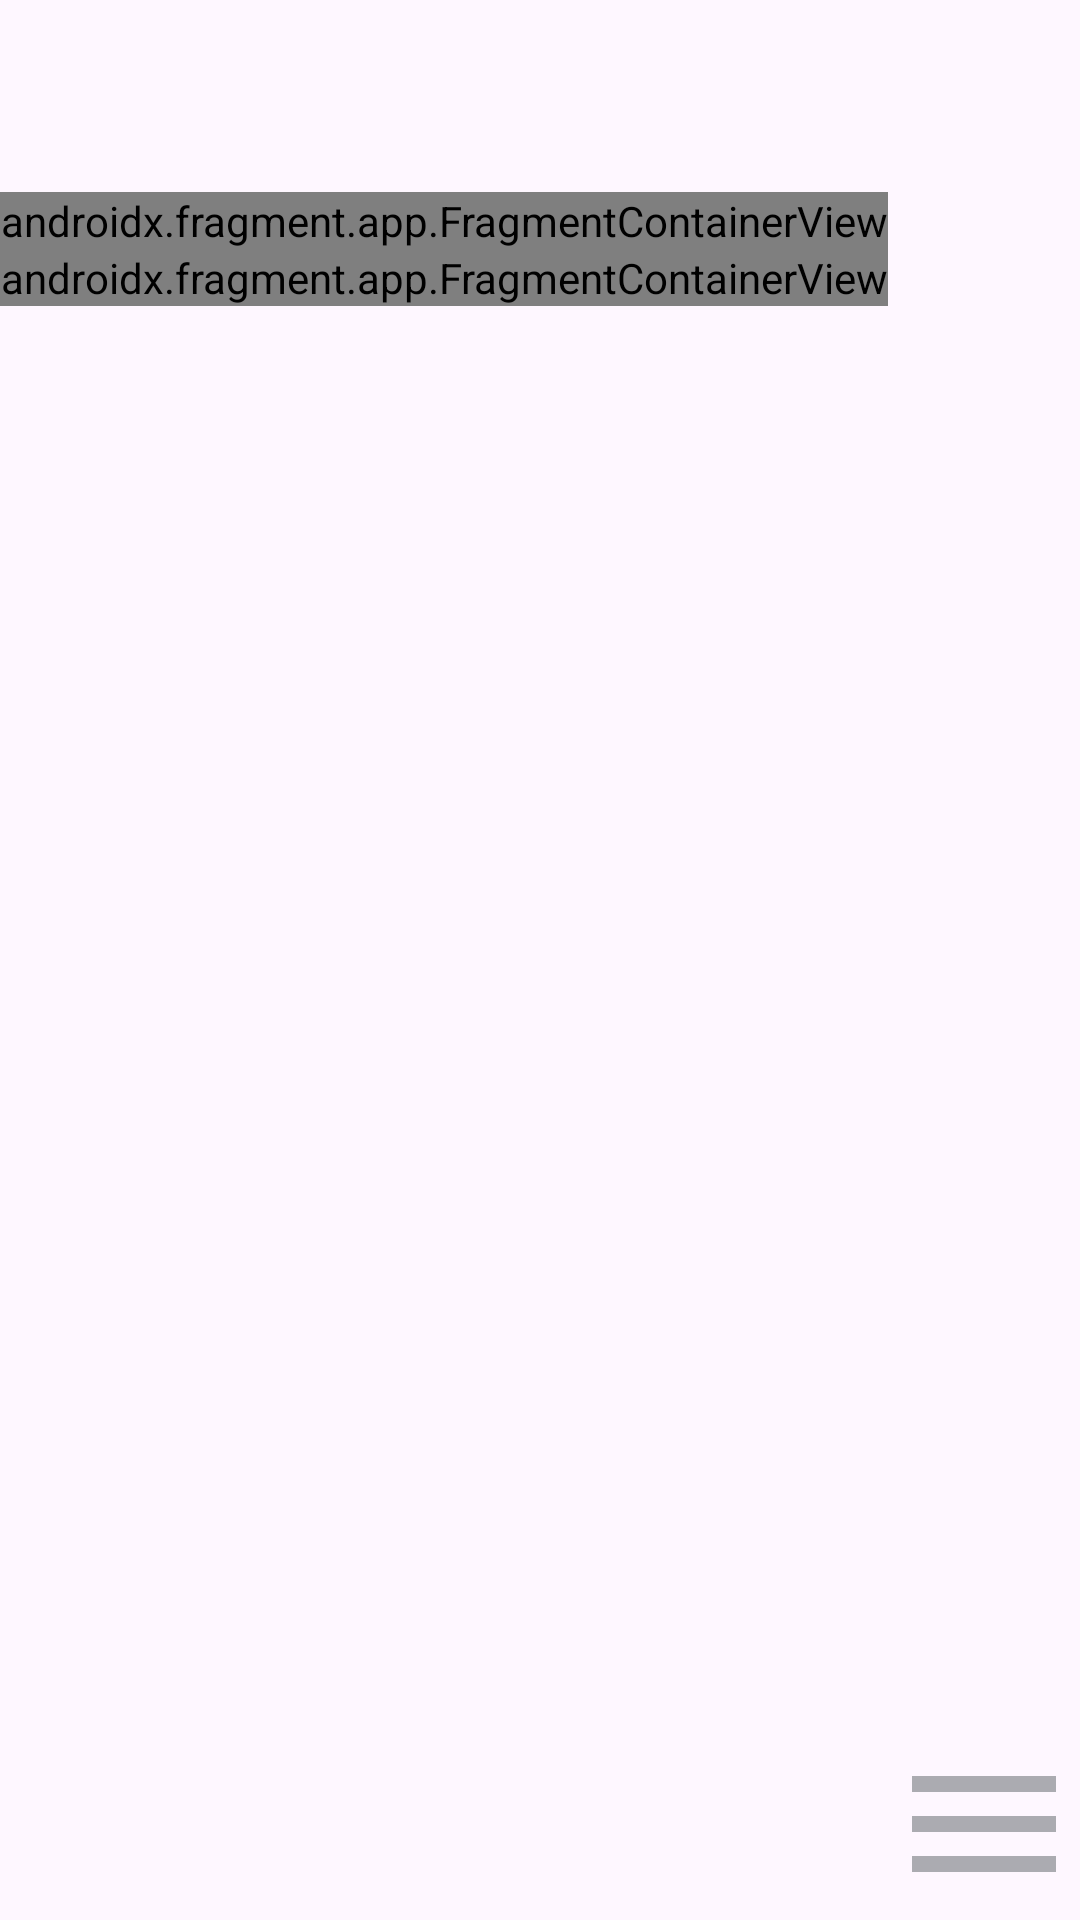

Point at icon controls on the screen. Image size 1080px×1920px, points as point (x, y).
Open menu: point (984, 1824)
